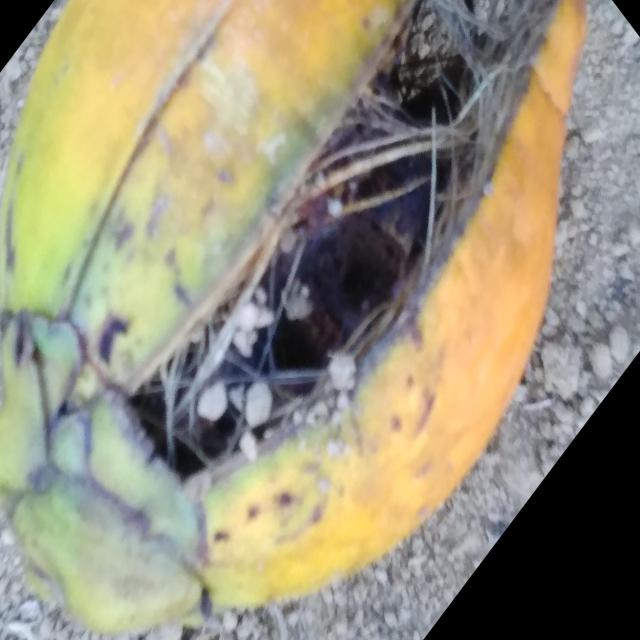damaged: (0, 0, 589, 636)
